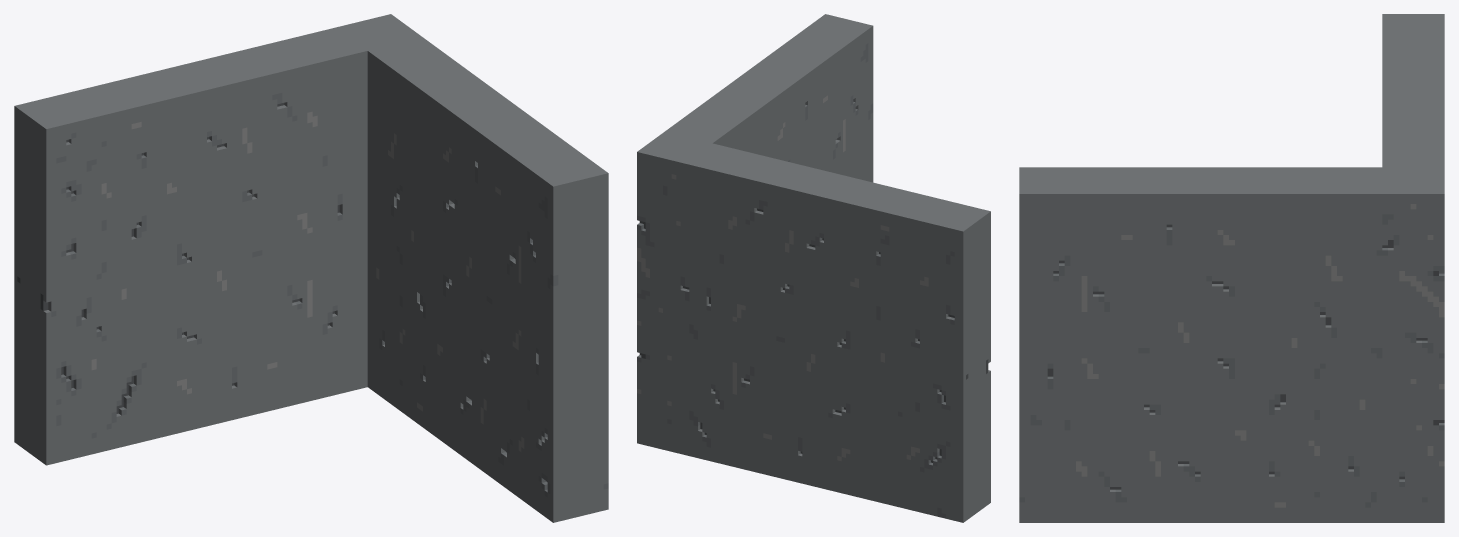
File: Wall_Corner.obj
3 renders of one model, left to right at view 1: azimuth 30°, elevation 25°; view 2: azimuth 150°, elevation 25°; view 3: azimuth 270°, elevation 25°, orthographic. The views are drawn at different scales.
Size of the model in its own units: 7.5 by 6.4 by 7.5.
1 material, 1 textured.
